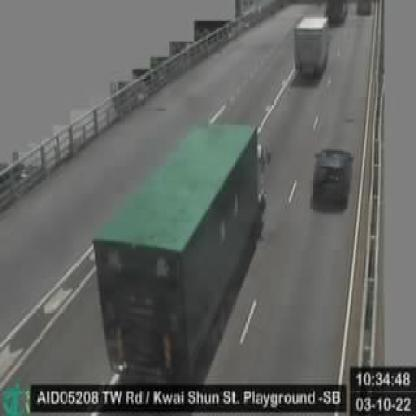Car: (310, 148, 352, 206)
Truck: (91, 122, 268, 374), (295, 18, 328, 76)
